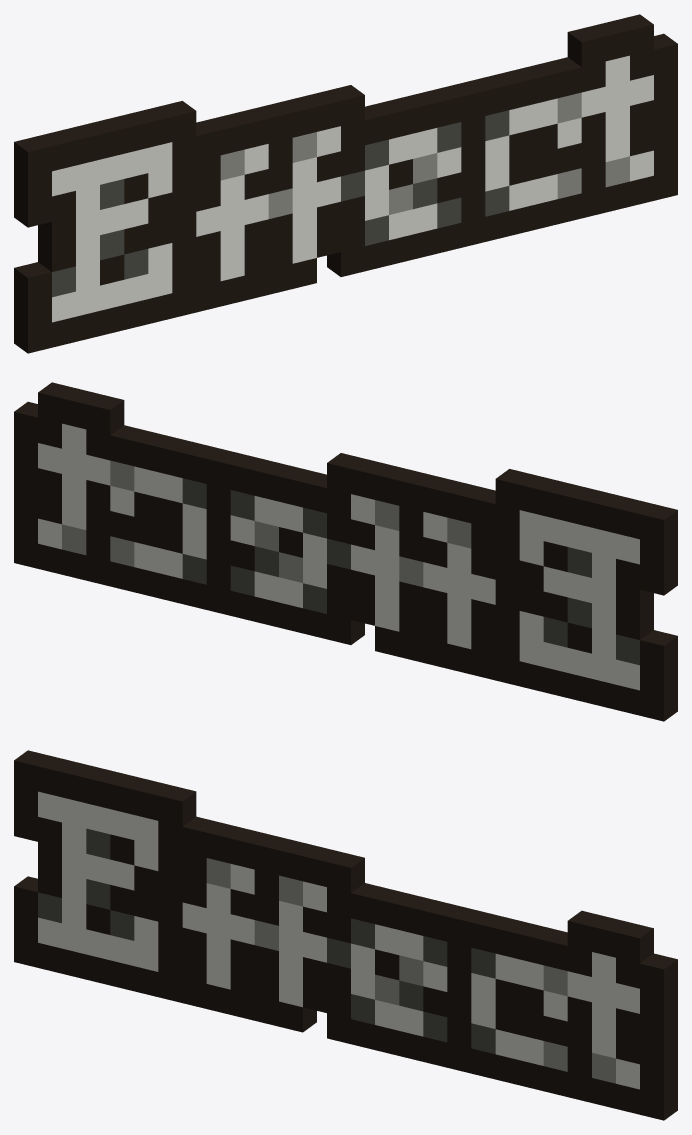
File: LabelEffect.fbx
3 renders of one model, top to bottom at view 1: azimuth 30°, elevation 25°; view 2: azimuth 150°, elevation 25°; view 3: azimuth 330°, elevation 25°, orthographic.
Parts seen in each view (by area): view 1: Union_part_1; view 2: Union_part_1; view 3: Union_part_1.
Boxes of the visible parts, box(x1,y1,x2,y2) form: Union_part_1: box(14, 14, 677, 353); Union_part_1: box(14, 382, 677, 721); Union_part_1: box(14, 750, 677, 1120).
Size of the model in its own units: 27 by 8 by 1.
Materials: 1 (1 with a texture image).
